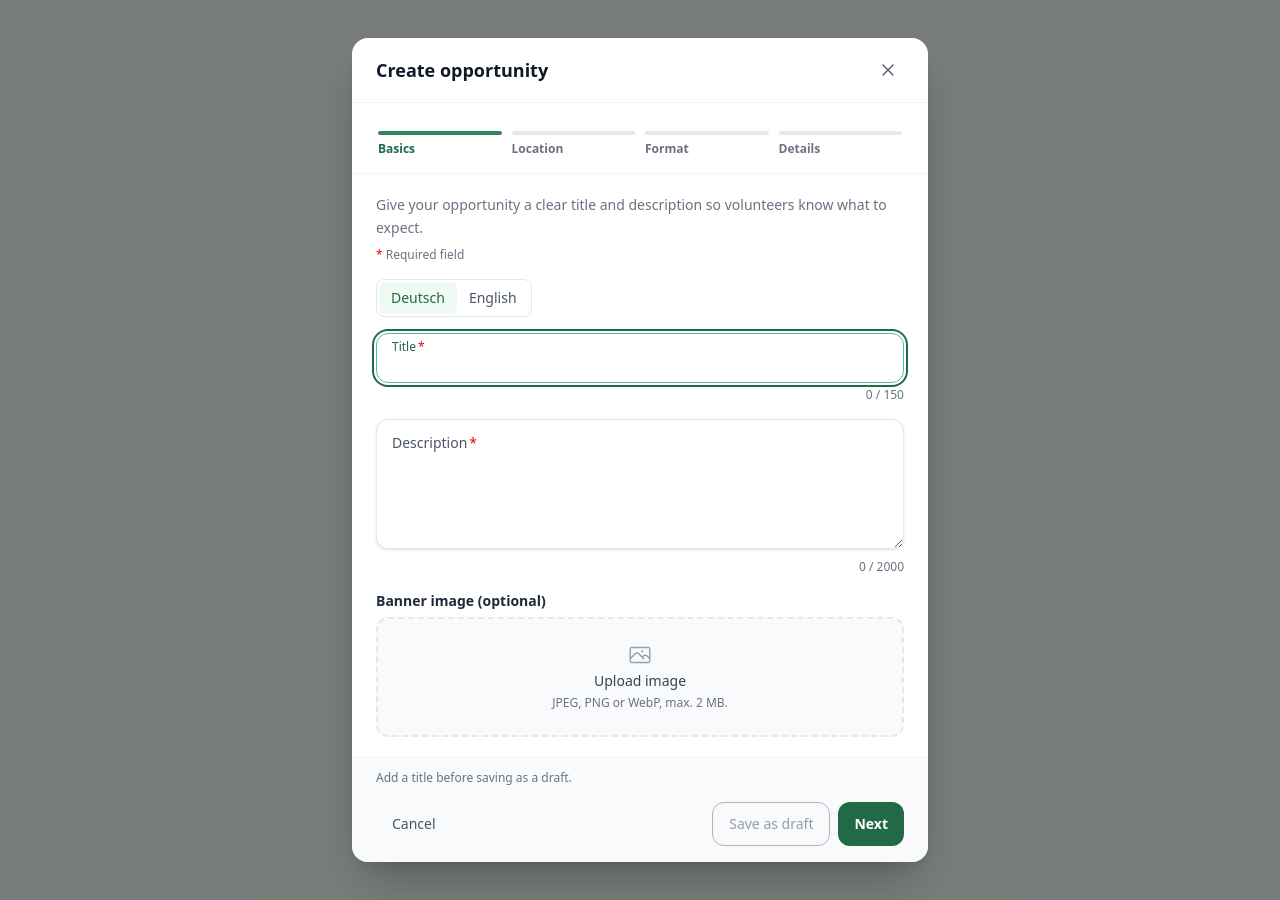
Test: create-opportunity wizard: blocked stepper jumps (#1782) › names the step standing in the way, in an assertive live region tied to the refused control
Click the button with test id "wizard-stepper-4" at coordinates (840, 146), box [776,131,904,161]
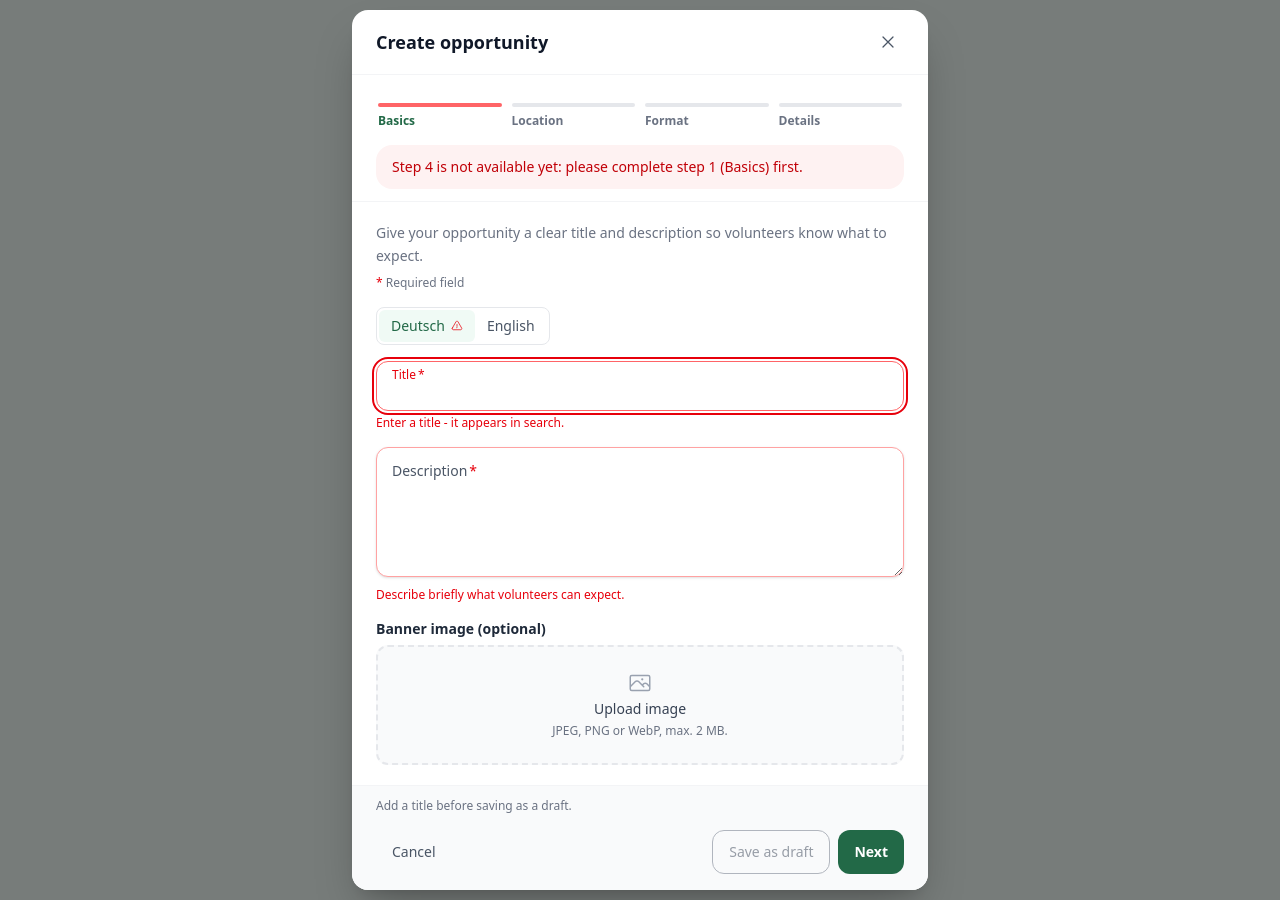
Expected: the message "Step 4 is not available yet: please complete step 1 (Basics) first." is shown, [376,145,904,189]
Expected: the message with id "create-opportunity-step-blocked" shows "Step 4 is not available yet", [392,157,803,176]
Expected: the message with id "create-opportunity-step-blocked" shows "step 1 (Basics)", [392,157,803,176]
